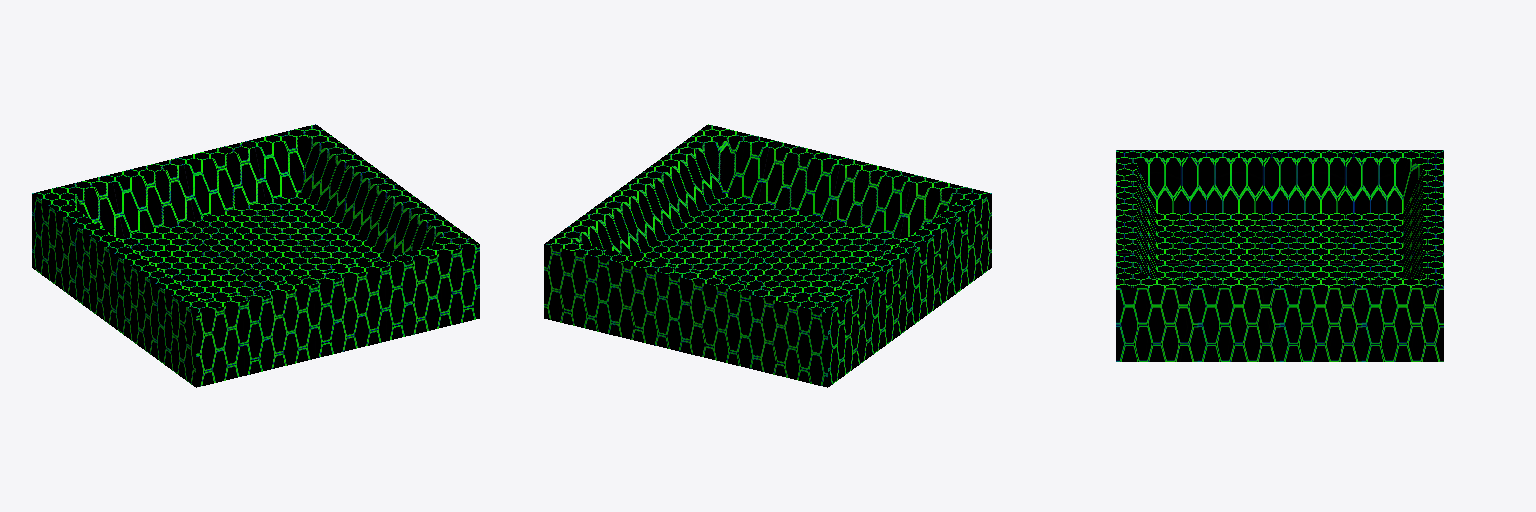
The picture shows the model from 3 angles: view 1: azimuth 30°, elevation 25°; view 2: azimuth 150°, elevation 25°; view 3: azimuth 270°, elevation 25°; orthographic projection.
Visible parts, largest first — view 1: 立方体_立方体.005; view 2: 立方体_立方体.005; view 3: 立方体_立方体.005.
Part boxes in pixels (bbox=[...]): 立方体_立方体.005: bbox=[32, 124, 479, 387]; 立方体_立方体.005: bbox=[544, 124, 991, 387]; 立方体_立方体.005: bbox=[1116, 150, 1443, 361].
Bounding box in the file's own units: 20 × 5 × 20.
Materials: 1 (1 with a texture image).